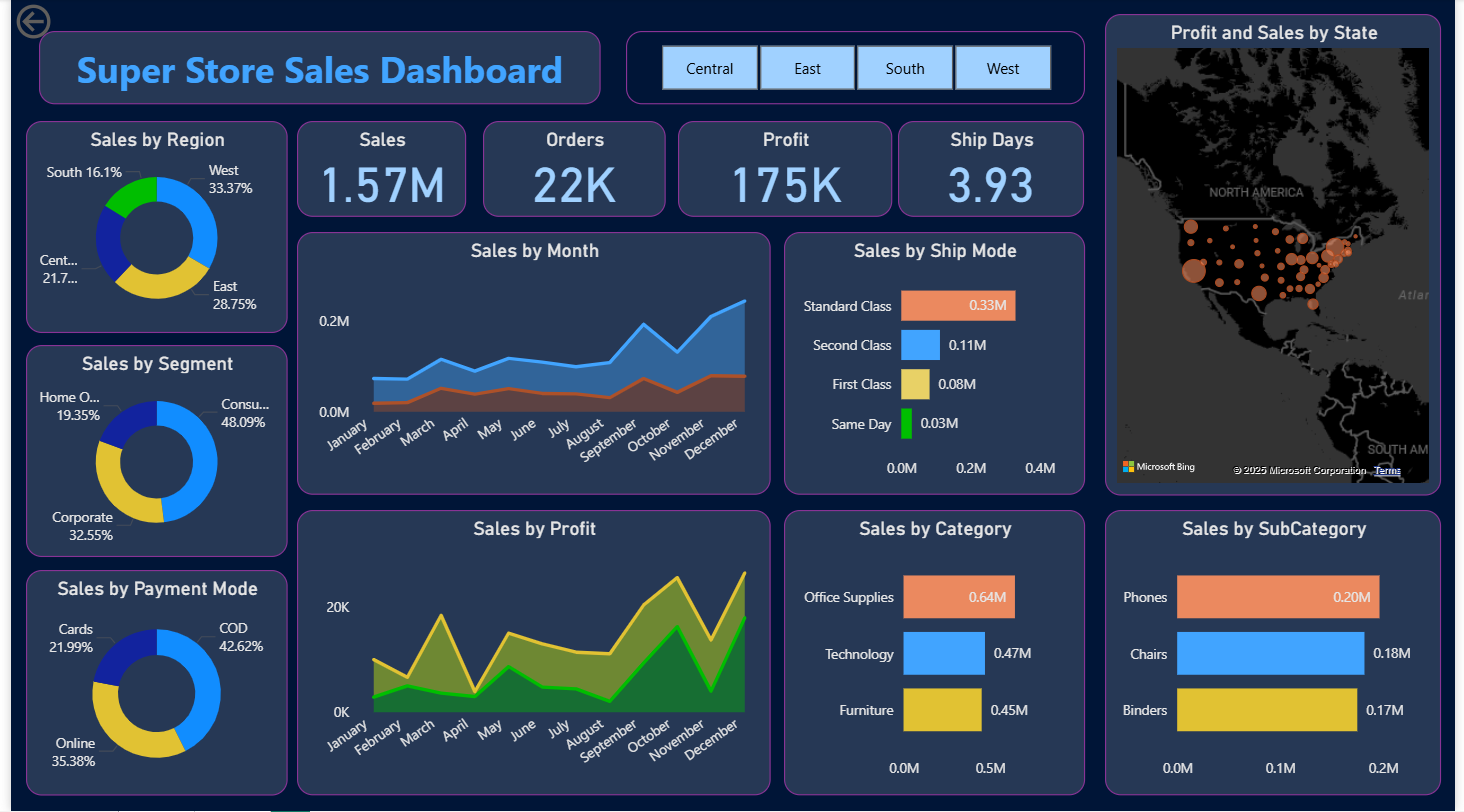

This screenshot's page, from the dashboard's own definition file:
{"tool":"powerbi","page":{"name":"Page 1","canvas":[1280,720],"ordinal":0},"visuals":[{"type":"clusteredBarChart","title":"Sales by Category","fields":{"Category":["SuperStore_Sales_Dataset.Category"],"Y":["Sum(SuperStore_Sales_Dataset.Sales)"]},"box":[685,453.3,266.7,253.3],"z":0},{"type":"clusteredBarChart","title":"Sales by SubCategory","fields":{"Category":["SuperStore_Sales_Dataset.Sub-Category"],"Y":["Sum(SuperStore_Sales_Dataset.Sales)"]},"box":[970,453.3,298.3,253.3],"z":1000},{"type":"clusteredBarChart","title":"Sales by Ship Mode","fields":{"Category":["SuperStore_Sales_Dataset.Ship Mode"],"Y":["Sum(SuperStore_Sales_Dataset.Sales)"]},"box":[685,206.7,266.7,233.3],"z":2000},{"type":"stackedAreaChart","title":"Sales by Month","fields":{"Y":["Sum(SuperStore_Sales_Dataset.Sales)"],"Category":["SuperStore_Sales_Dataset.Order Date.Variation.Date Hierarchy.Month","SuperStore_Sales_Dataset.Order Date.Variation.Date Hierarchy.Day"],"Series":["SuperStore_Sales_Dataset.Order Date.Variation.Date Hierarchy.Year"]},"box":[253.3,206.7,420,233.3],"z":3000},{"type":"stackedAreaChart","title":"Sales by Profit ","fields":{"Category":["SuperStore_Sales_Dataset.Order Date.Variation.Date Hierarchy.Month","SuperStore_Sales_Dataset.Order Date.Variation.Date Hierarchy.Day"],"Series":["SuperStore_Sales_Dataset.Order Date.Variation.Date Hierarchy.Year"],"Y":["Sum(SuperStore_Sales_Dataset.Profit)"]},"box":[253.3,453.3,420,253.3],"z":4000},{"type":"map","title":"Profit and Sales by State","fields":{"Category":["SuperStore_Sales_Dataset.State"],"Size":["Sum(SuperStore_Sales_Dataset.Sales)"]},"box":[970,13.3,298.3,426.7],"z":5000},{"type":"donutChart","title":"Sales by Segment","fields":{"Category":["SuperStore_Sales_Dataset.Segment"],"Y":["Sum(SuperStore_Sales_Dataset.Sales)"]},"box":[13.3,306.7,231.7,188.3],"z":6000},{"type":"donutChart","title":"Sales by Payment Mode","fields":{"Category":["SuperStore_Sales_Dataset.Payment Mode"],"Y":["Sum(SuperStore_Sales_Dataset.Sales)"]},"box":[13.3,506.7,231.7,200],"z":7000},{"type":"slicer","fields":{"Values":["SuperStore_Sales_Dataset.Region"]},"box":[545,28.3,406.7,65],"z":8000},{"type":"textbox","box":[25,28.3,498.3,65],"z":9000},{"type":"card","title":"Sales","fields":{"Values":["Sum(SuperStore_Sales_Dataset.Sales)"]},"box":[253.3,108.3,150,85],"z":10000},{"type":"card","title":"Orders","fields":{"Values":["Sum(SuperStore_Sales_Dataset.Quantity)"]},"box":[418.3,108.3,161.7,85],"z":11000},{"type":"card","title":"Profit","fields":{"Values":["Sum(SuperStore_Sales_Dataset.Profit)"]},"box":[591.7,108.3,190,85],"z":12000},{"type":"card","title":"Ship Days","fields":{"Values":["Avg(SuperStore_Sales_Dataset.AvgDelivery)"]},"box":[786.7,108.3,165,85],"z":13000},{"type":"donutChart","title":"Sales by Region","fields":{"Category":["SuperStore_Sales_Dataset.Region"],"Y":["Sum(SuperStore_Sales_Dataset.Sales)"]},"box":[13.3,108.3,231.7,188.3],"z":14000},{"type":"actionButton","box":[0,0,100,40],"z":15000}]}

Visuals, with their boxes in screenshot pixels (x1, y1, x2, y2), scaled from the page's 1280x720 canvas onto the 1464x812 screenshot:
"Sales by Category" clusteredBarChart: x1=783 y1=511 x2=1089 y2=797
"Sales by SubCategory" clusteredBarChart: x1=1109 y1=511 x2=1451 y2=797
"Sales by Ship Mode" clusteredBarChart: x1=783 y1=233 x2=1089 y2=496
"Sales by Month" stackedAreaChart: x1=290 y1=233 x2=770 y2=496
"Sales by Profit " stackedAreaChart: x1=290 y1=511 x2=770 y2=797
"Profit and Sales by State" map: x1=1109 y1=15 x2=1451 y2=496
"Sales by Segment" donutChart: x1=15 y1=346 x2=280 y2=558
"Sales by Payment Mode" donutChart: x1=15 y1=571 x2=280 y2=797
slicer - SuperStore_Sales_Dataset.Region: x1=623 y1=32 x2=1089 y2=105
textbox: x1=29 y1=32 x2=599 y2=105
"Sales" card: x1=290 y1=122 x2=461 y2=218
"Orders" card: x1=478 y1=122 x2=663 y2=218
"Profit" card: x1=677 y1=122 x2=894 y2=218
"Ship Days" card: x1=900 y1=122 x2=1089 y2=218
"Sales by Region" donutChart: x1=15 y1=122 x2=280 y2=334
actionButton: x1=0 y1=0 x2=114 y2=45
